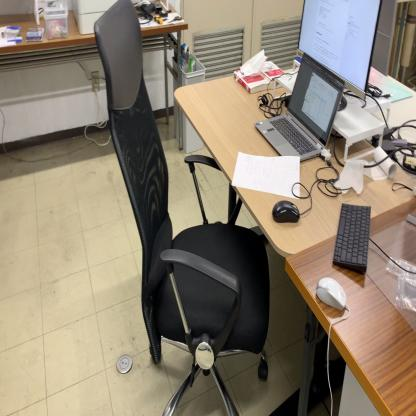chair: (93, 1, 271, 412)
